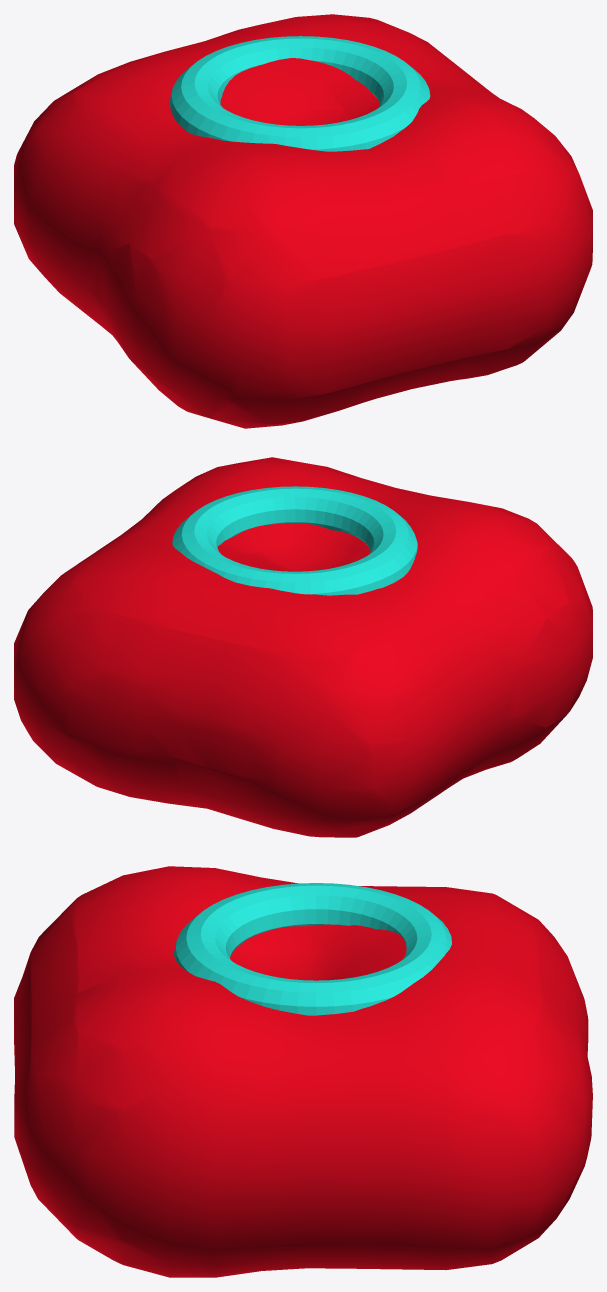
The model's file is oddpillow_.fbx.
3 renders of one model, top to bottom at view 1: azimuth 30°, elevation 25°; view 2: azimuth 150°, elevation 25°; view 3: azimuth 270°, elevation 25°, orthographic. The views are drawn at different scales.
Parts seen in each view (by area): view 1: Mball, Torus; view 2: Mball, Torus; view 3: Mball, Torus.
Boxes of the visible parts, box(x1,y1,x2,y2) form: Mball: box(14, 14, 592, 428); Torus: box(169, 36, 430, 151); Mball: box(14, 457, 592, 837); Torus: box(172, 486, 417, 595); Mball: box(14, 866, 592, 1277); Torus: box(174, 883, 451, 1015).
Bounding box in the file's own units: 491 × 268 × 501.
